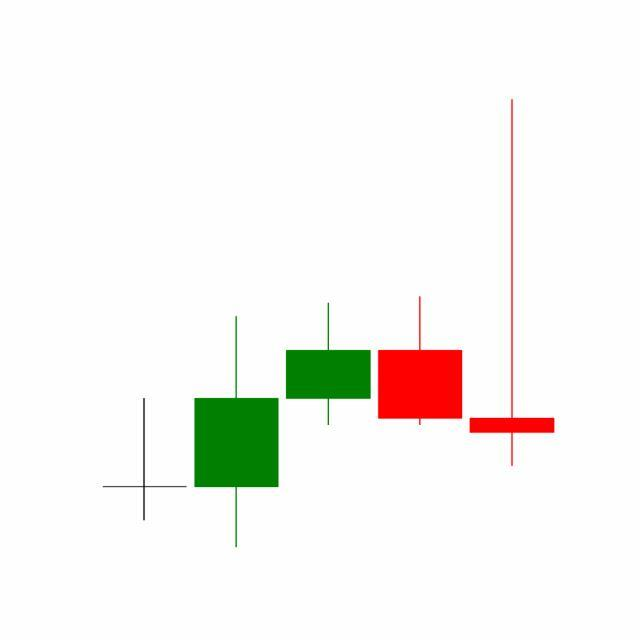Spinning Top: (466, 96, 559, 471)
